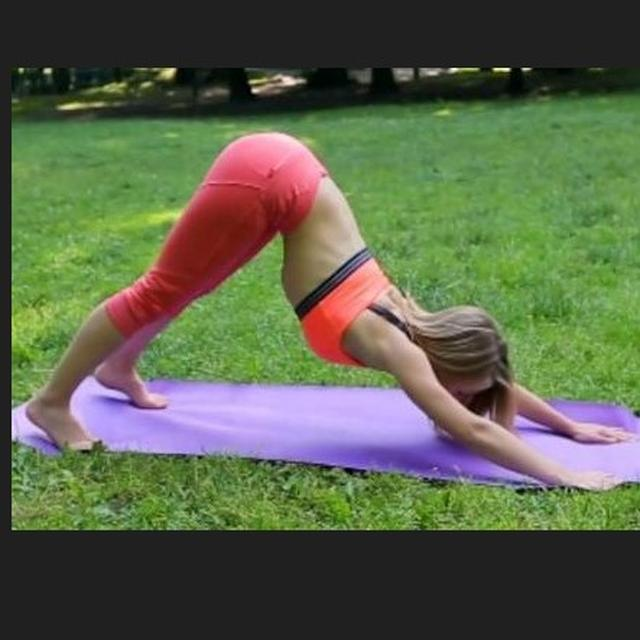Downward-Facing_Dog: (26, 131, 631, 491)
